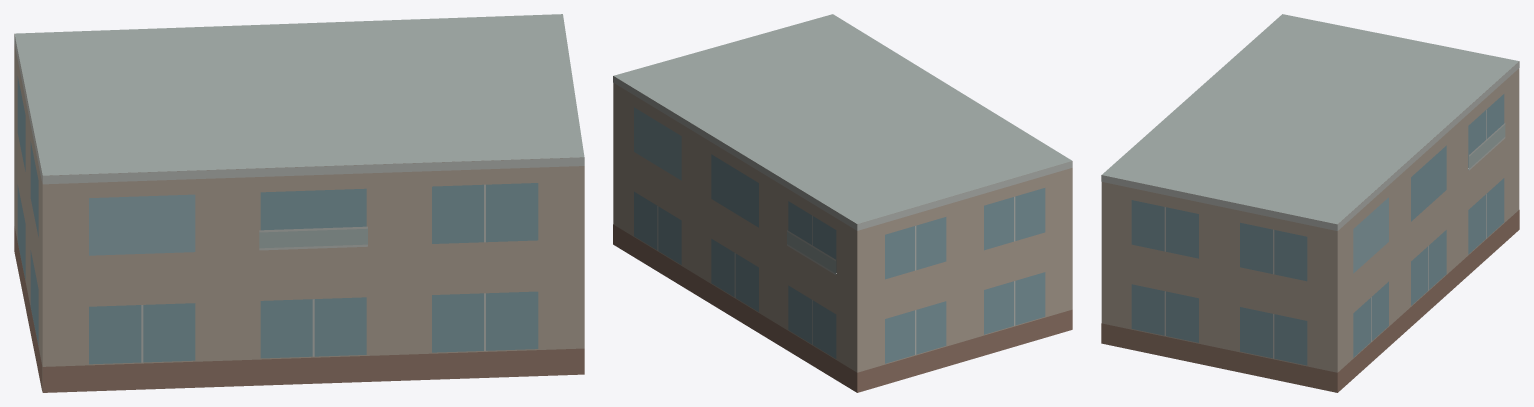
Rendered from survey-upis-32655130.glb.
3 views of the same model, side by side, from view 1: azimuth 30°, elevation 25°; view 2: azimuth 150°, elevation 25°; view 3: azimuth 270°, elevation 25° (orthographic). The views are drawn at different scales.
Parts seen in each view (by area): view 1: survey-upis-32655130.tmp; view 2: survey-upis-32655130.tmp; view 3: survey-upis-32655130.tmp.
Part boxes in pixels (x1,y1,x2,y2): survey-upis-32655130.tmp: [14, 14, 584, 392]; survey-upis-32655130.tmp: [613, 14, 1072, 392]; survey-upis-32655130.tmp: [1101, 14, 1519, 392].
Size of the model in its own units: 16.35 by 6.1 by 13.72.
